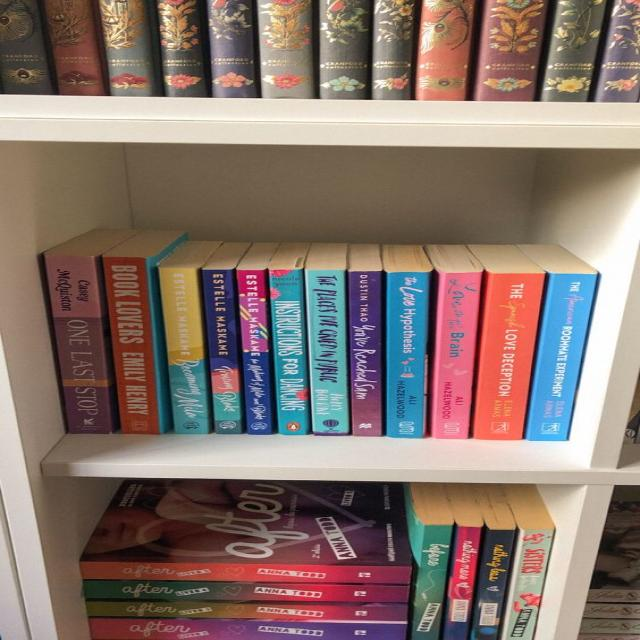book: (40, 254, 111, 432), (470, 273, 542, 439), (525, 273, 595, 440), (103, 257, 163, 433), (430, 273, 480, 438), (159, 267, 208, 434), (304, 269, 353, 436), (83, 598, 409, 620), (386, 271, 427, 436), (81, 563, 410, 583), (82, 582, 407, 602), (235, 269, 274, 434), (204, 269, 242, 434), (270, 269, 308, 434), (90, 620, 407, 639), (501, 531, 555, 639), (349, 270, 382, 436), (470, 530, 516, 640), (439, 527, 484, 639), (412, 524, 454, 640)
